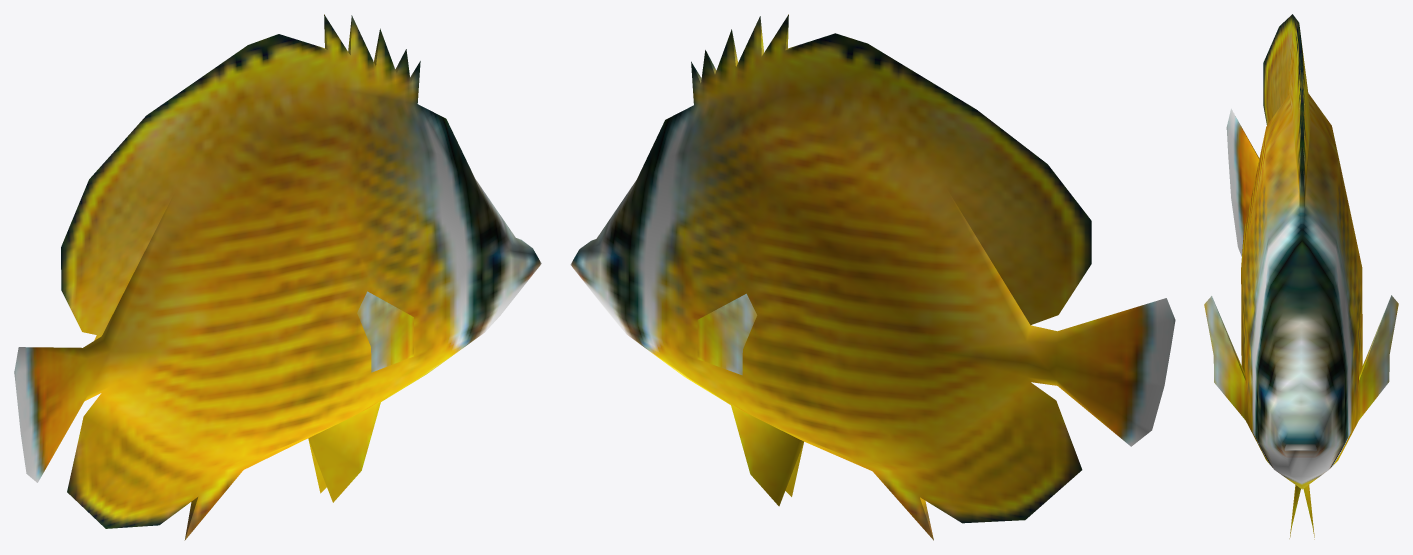
The model's file is Normal.ico.obj.
The picture shows the model from 3 angles, left to right: view 1: azimuth 30°, elevation 25°; view 2: azimuth 150°, elevation 25°; view 3: azimuth 270°, elevation 25°; orthographic projection.
Size of the model in its own units: 3.78 by 3.19 by 1.14.
Materials: 1 (1 with a texture image).
